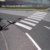zebra: (16, 12, 47, 30)
